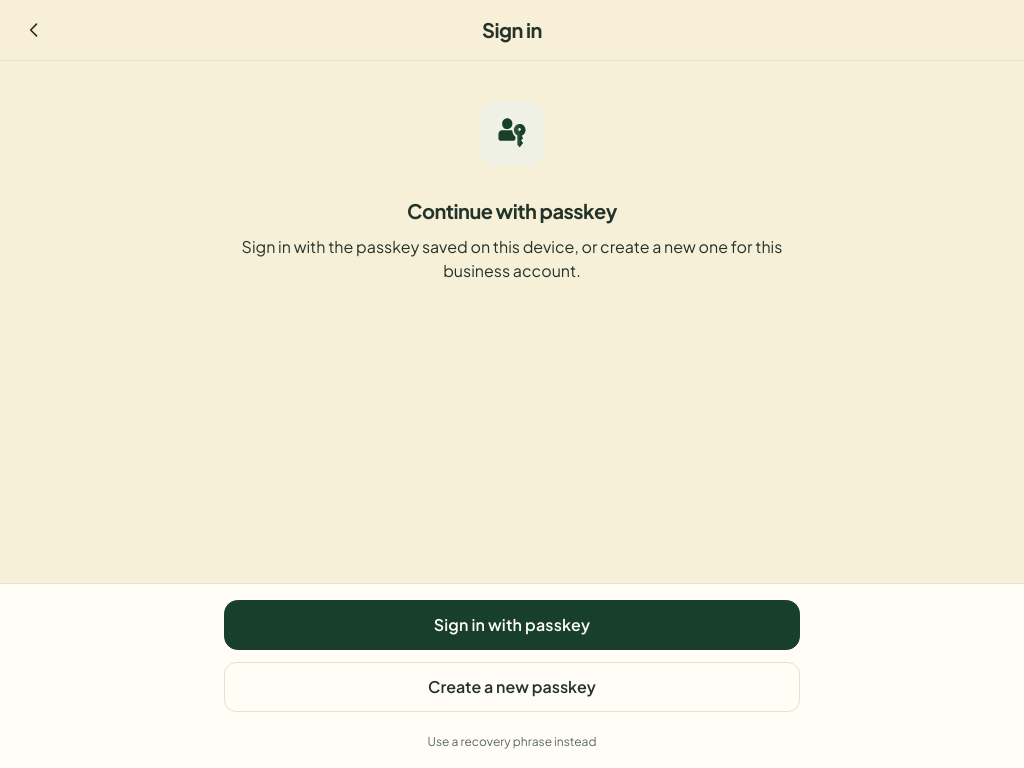
Test case: PasskeyPage › signs in a returning user and derives the wallet from the chosen label
This screenshot has width=1024, height=768.
Later steps or results of the test are not shown.
Click the button with test id "passkey-signin-button": click(512, 625) [224,600,800,650]
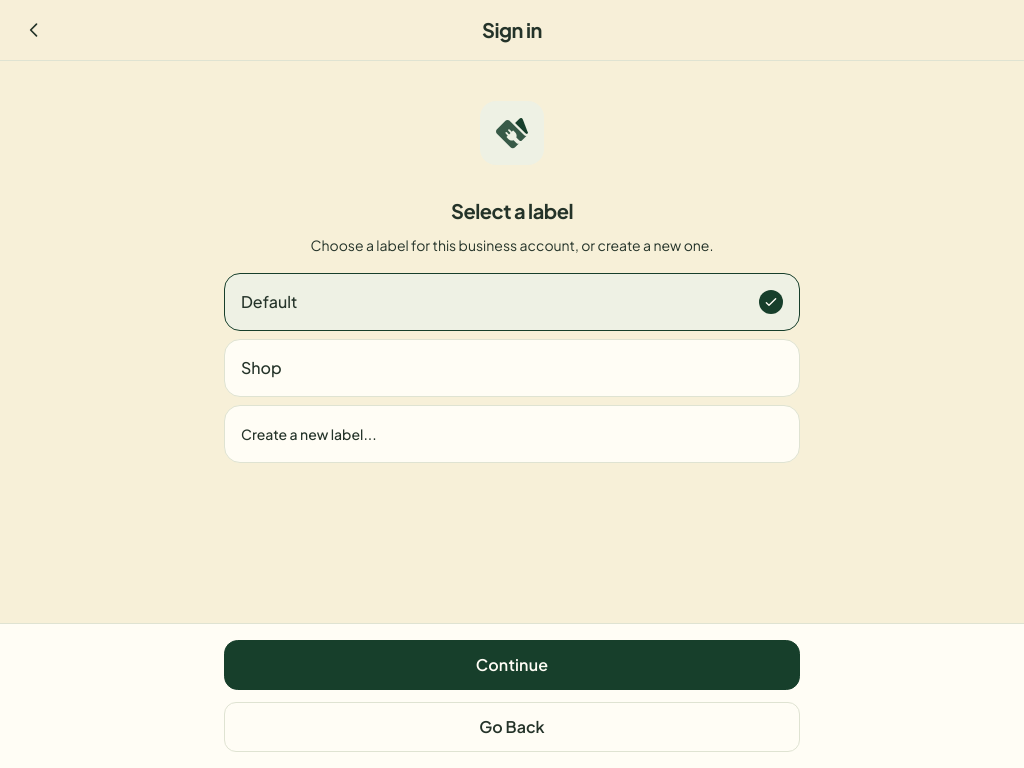
Expected: the heading "Select a label" is shown, [451,198,573,223]
